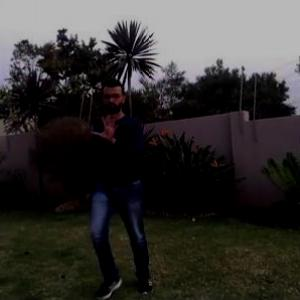follow_hand: (90, 112, 122, 147)
